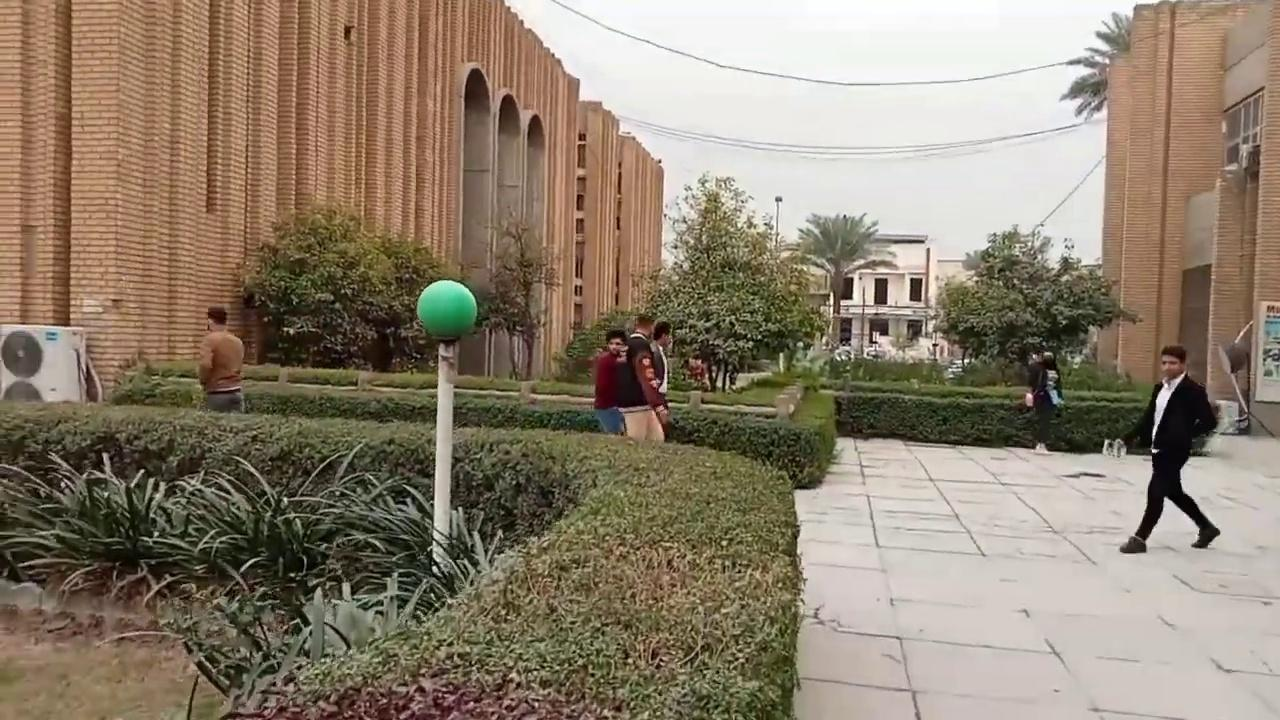person: (1117, 344, 1220, 553), (625, 314, 670, 441), (197, 306, 245, 412), (592, 328, 629, 435), (1025, 351, 1063, 455), (648, 320, 673, 439)
tree: (634, 170, 815, 393), (235, 199, 464, 372), (926, 222, 1141, 385), (471, 204, 562, 382), (791, 210, 883, 352), (1059, 10, 1132, 121)
